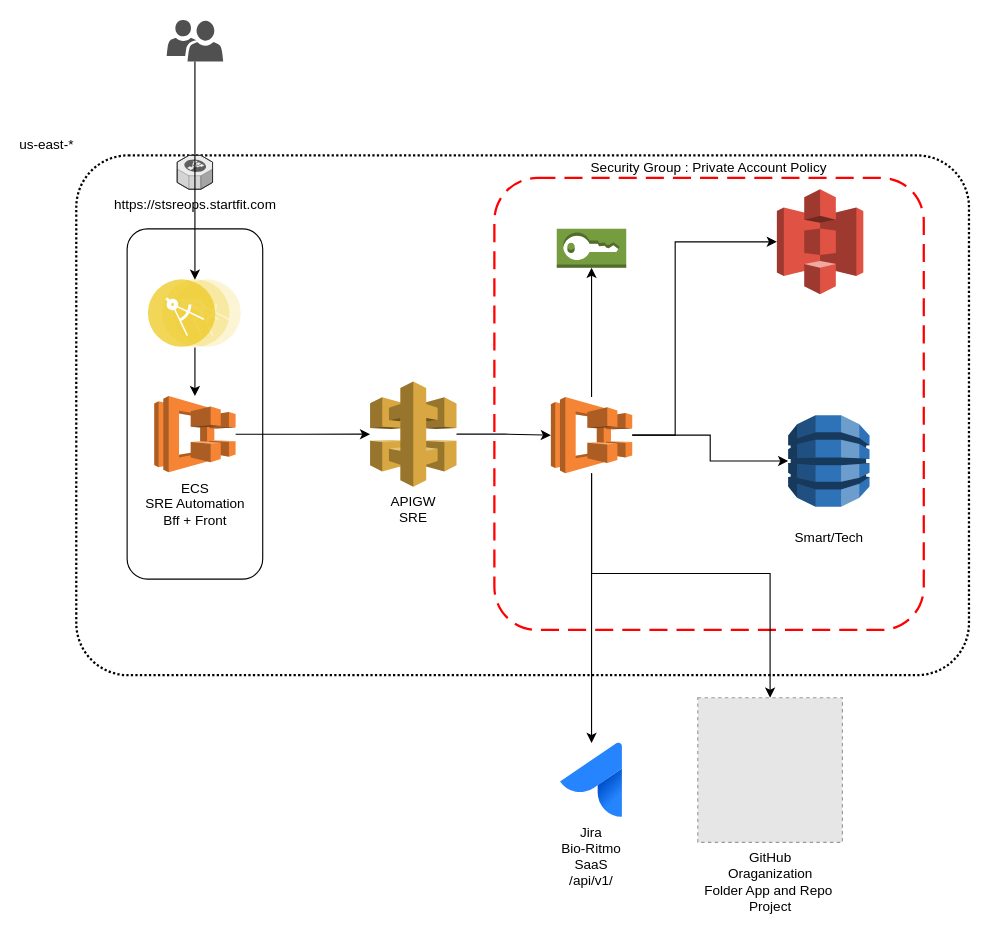
Image size: 990x935. Some labels were removed from this diagram. Grey dashed boxes stand in for pictures. Each missing label, with the box of its shape:
AWS STS: (556, 228, 626, 268)
Developers POs SREs: (166, 19, 223, 61)
ECS SRE Automation BackEnd: (550, 396, 632, 473)
S3 Bucket Store TerraForm Private: (776, 188, 863, 294)
